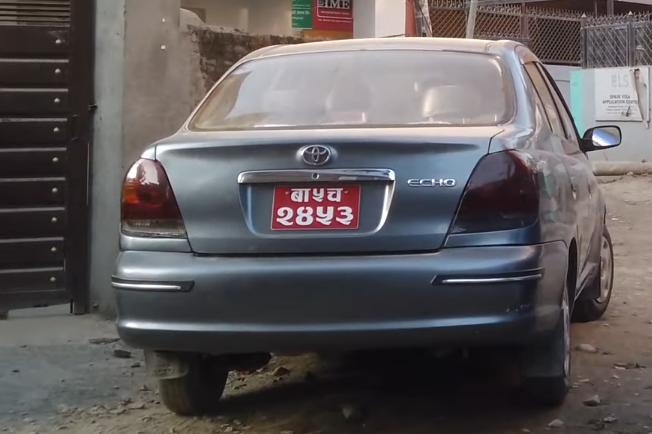car: (108, 20, 616, 419)
